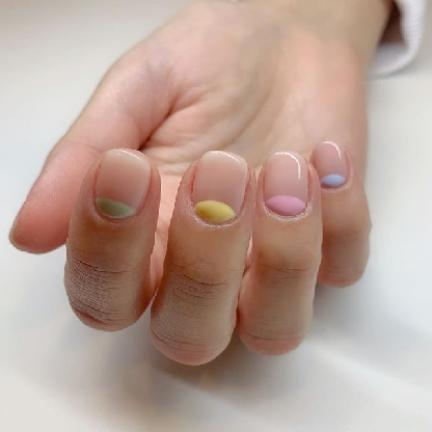Nail: (192, 150, 247, 225), (94, 150, 151, 220), (263, 151, 308, 217), (312, 142, 348, 189)
